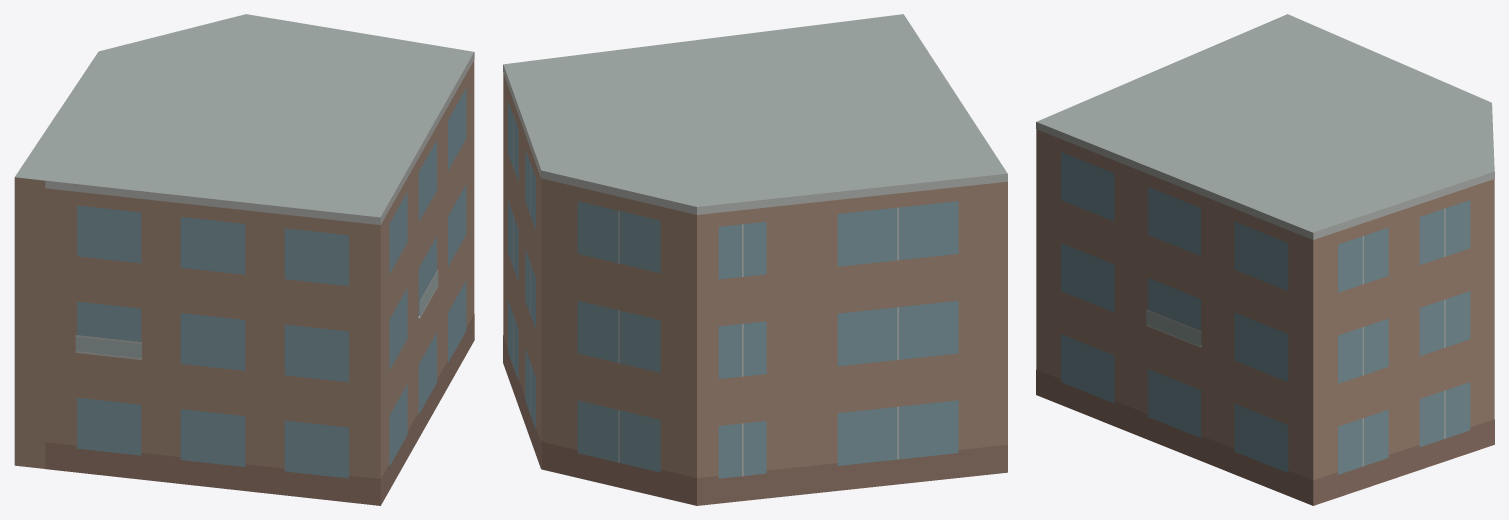
File: survey-upis-32503655.glb
The picture shows the model from 3 angles, left to right: view 1: azimuth 30°, elevation 25°; view 2: azimuth 150°, elevation 25°; view 3: azimuth 270°, elevation 25°; orthographic projection. The views are drawn at different scales.
Parts seen in each view (by area): view 1: survey-upis-32503655.tmp; view 2: survey-upis-32503655.tmp; view 3: survey-upis-32503655.tmp.
Part boxes in pixels (x1,y1,x2,y2): survey-upis-32503655.tmp: [14, 14, 474, 505]; survey-upis-32503655.tmp: [503, 14, 1007, 505]; survey-upis-32503655.tmp: [1036, 14, 1494, 505].
Bounding box in the file's own units: 15.73 × 9.15 × 13.93.
